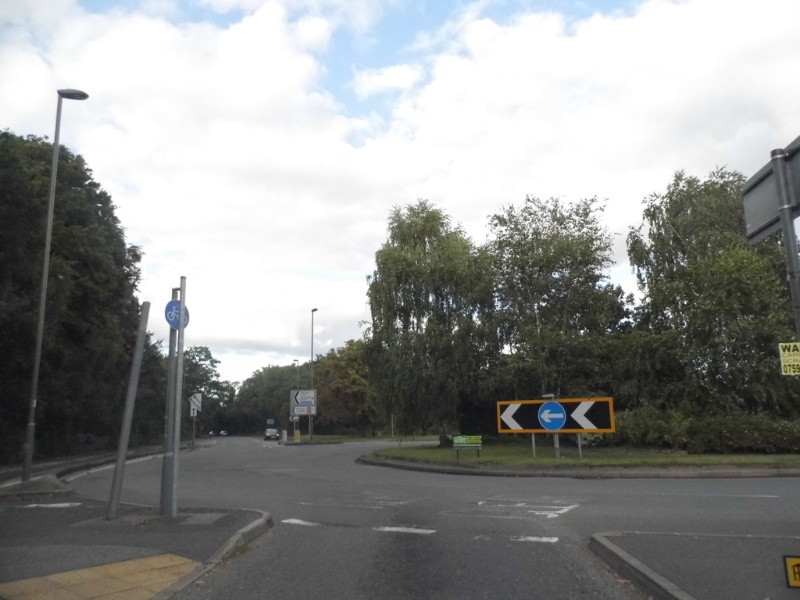left_direction: (486, 400, 627, 443)
